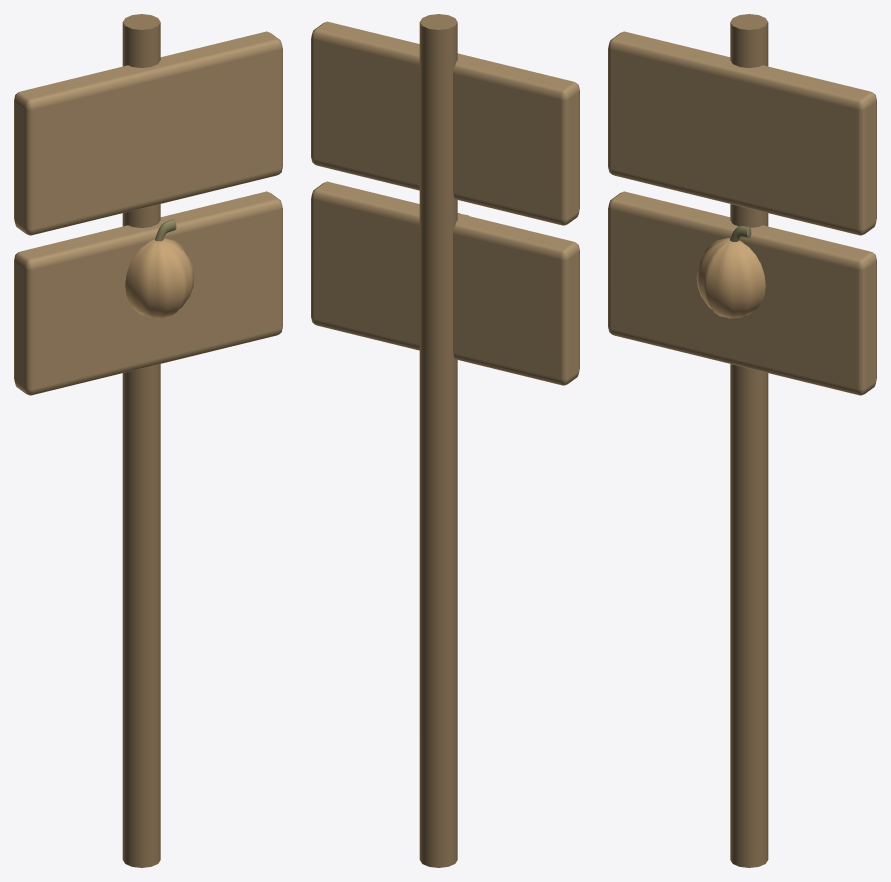
File: harvestsign.glb
3 views of the same model, side by side, from view 1: azimuth 30°, elevation 25°; view 2: azimuth 150°, elevation 25°; view 3: azimuth 330°, elevation 25° (orthographic).
Parts seen in each view (by area): view 1: sign-board-0-96, sign-board-0-75, planted-sign-post, painted-pumpkin-ribbed-body; view 2: sign-board-0-75, sign-board-0-96, planted-sign-post; view 3: sign-board-0-96, sign-board-0-75, planted-sign-post, painted-pumpkin-ribbed-body.
Boxes of the visible parts, box(x1,y1,x2,y2) form: sign-board-0-96: box(14, 31, 282, 235); sign-board-0-75: box(14, 191, 282, 395); planted-sign-post: box(122, 14, 160, 867); painted-pumpkin-ribbed-body: box(125, 238, 194, 318); sign-board-0-75: box(311, 181, 579, 385); sign-board-0-96: box(311, 21, 579, 225); planted-sign-post: box(419, 14, 457, 867); sign-board-0-96: box(608, 31, 876, 235); sign-board-0-75: box(608, 191, 876, 395); planted-sign-post: box(730, 14, 768, 867); painted-pumpkin-ribbed-body: box(696, 238, 765, 318).
Size of the model in its own units: 0.55 by 1.71 by 0.1619.
